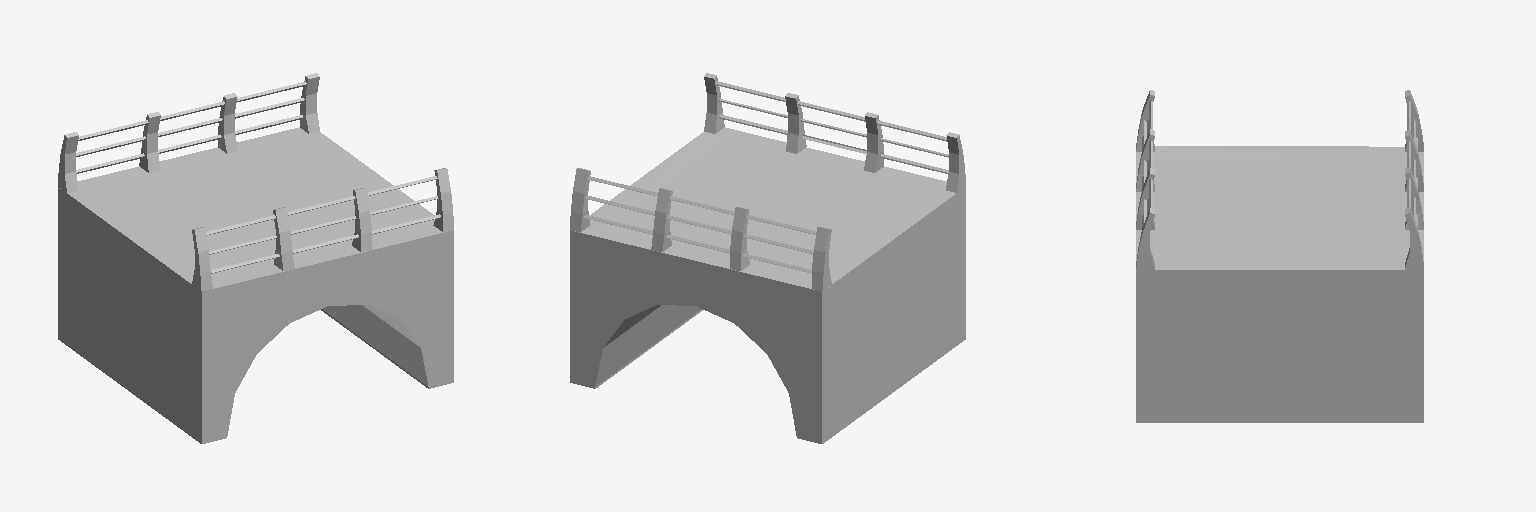
File: circulararchbridge.obj
The picture shows the model from 3 angles: view 1: azimuth 30°, elevation 25°; view 2: azimuth 150°, elevation 25°; view 3: azimuth 270°, elevation 25°; orthographic projection.
Parts seen in each view (by area): view 1: Cube_Cube.002; view 2: Cube_Cube.002; view 3: Cube_Cube.002.
Boxes of the visible parts, x1=… form: Cube_Cube.002: x1=58, y1=73, x2=453, y2=443; Cube_Cube.002: x1=570, y1=73, x2=965, y2=443; Cube_Cube.002: x1=1136, y1=90, x2=1423, y2=422.
Bounding box in the file's own units: 3.15 × 2.5 × 3.11.